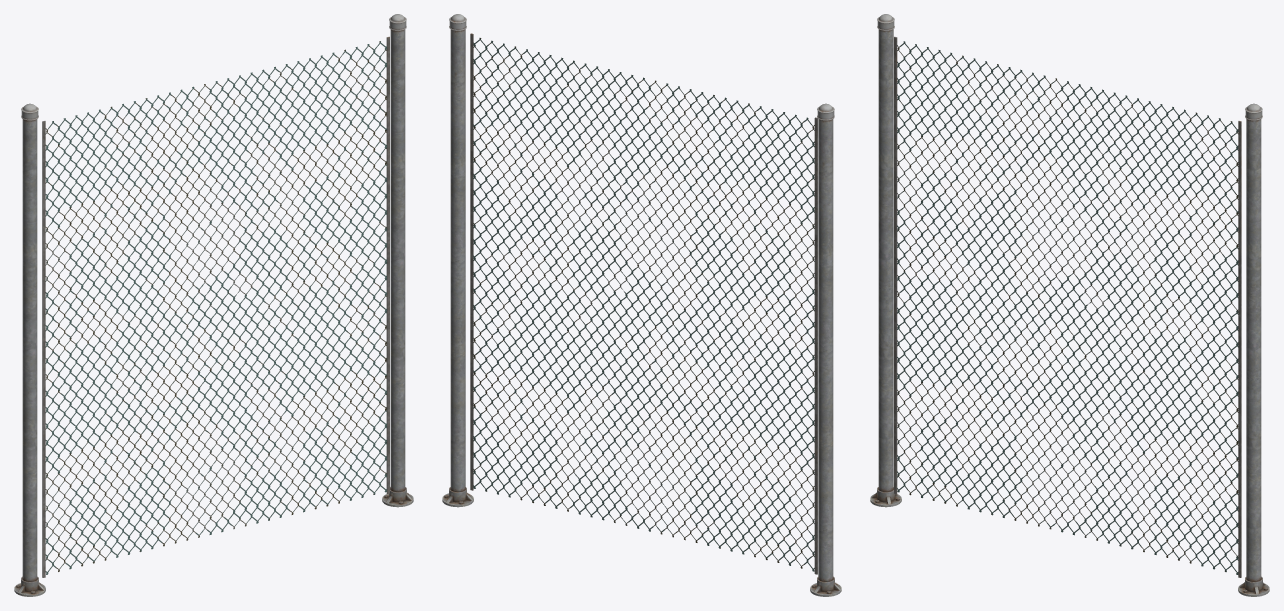
The model's file is art_chainlink_fence.glb.
3 views of the same model, side by side, from view 1: azimuth 30°, elevation 25°; view 2: azimuth 150°, elevation 25°; view 3: azimuth 330°, elevation 25° (orthographic).
Visible parts, largest first — view 1: modular_chainlink_fence_double, fence_post_left, fence_post_right; view 2: modular_chainlink_fence_double, fence_post_left, fence_post_right; view 3: modular_chainlink_fence_double, fence_post_right, fence_post_left.
Part boxes in pixels (x1=…): modular_chainlink_fence_double: x1=42, y1=36, x2=389, y2=577; fence_post_left: x1=14, y1=103, x2=45, y2=596; fence_post_right: x1=382, y1=14, x2=413, y2=507; modular_chainlink_fence_double: x1=470, y1=33, x2=817, y2=574; fence_post_left: x1=810, y1=103, x2=841, y2=596; fence_post_right: x1=442, y1=14, x2=473, y2=507; modular_chainlink_fence_double: x1=894, y1=36, x2=1241, y2=577; fence_post_right: x1=1238, y1=103, x2=1269, y2=596; fence_post_left: x1=870, y1=14, x2=901, y2=507.
Size of the model in its own units: 2.15 by 2.52 by 0.1494.
Materials: 2 (2 with a texture image).
